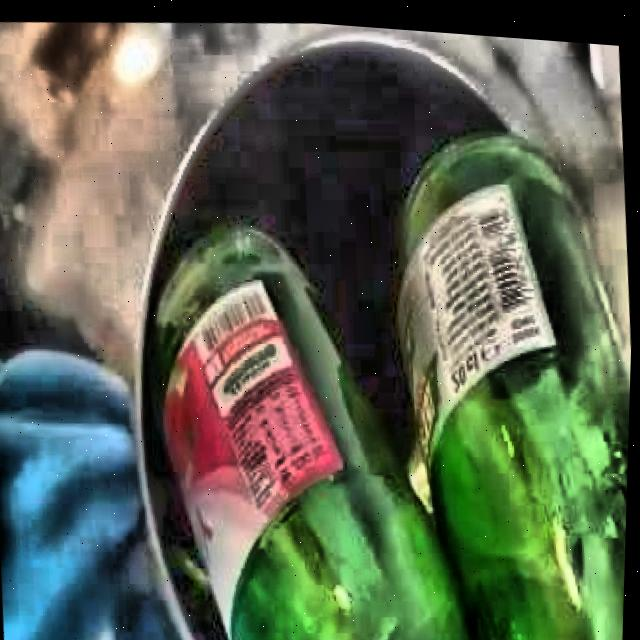glass: (154, 125, 632, 640)
